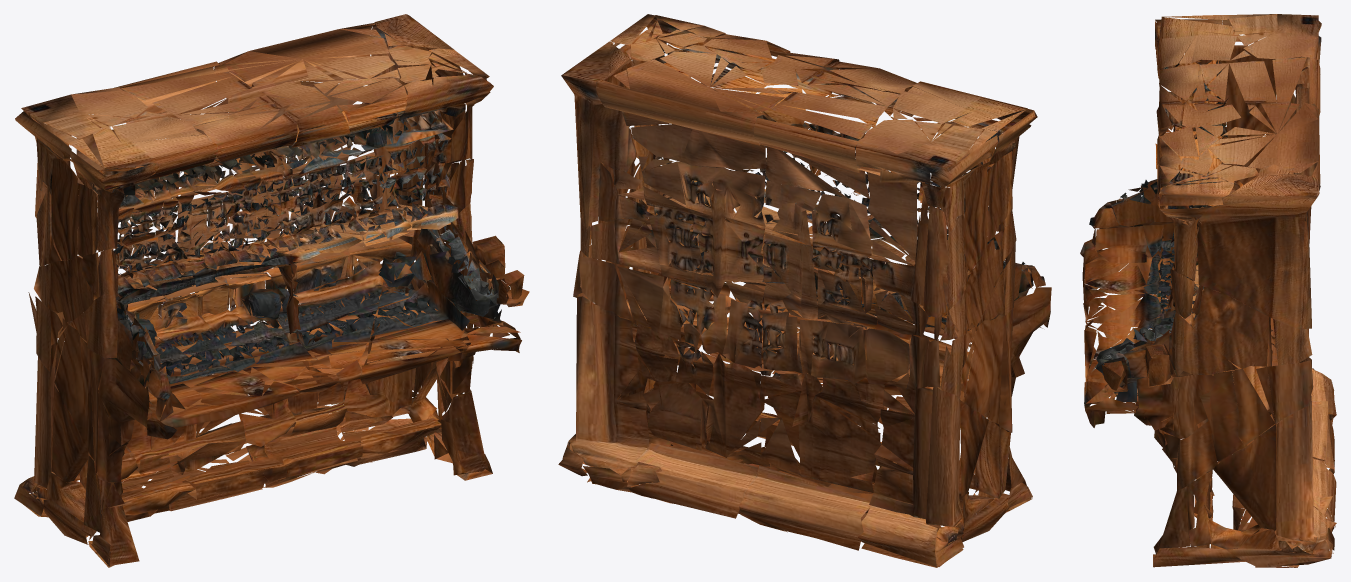
File: type-cases-interior-lod.glb
The picture shows the model from 3 angles, left to right: view 1: azimuth 30°, elevation 25°; view 2: azimuth 150°, elevation 25°; view 3: azimuth 270°, elevation 25°; orthographic projection. The views are drawn at different scales.
Parts seen in each view (by area): view 1: Mesh_0; view 2: Mesh_0; view 3: Mesh_0.
Part boxes in pixels (box(x1,y1,x2,y2)): Mesh_0: box(14, 14, 529, 567); Mesh_0: box(558, 14, 1051, 567); Mesh_0: box(1080, 14, 1336, 567).
Bounding box in the file's own units: 1.93 × 1.85 × 1.12.
Materials: 1 (1 with a texture image).
